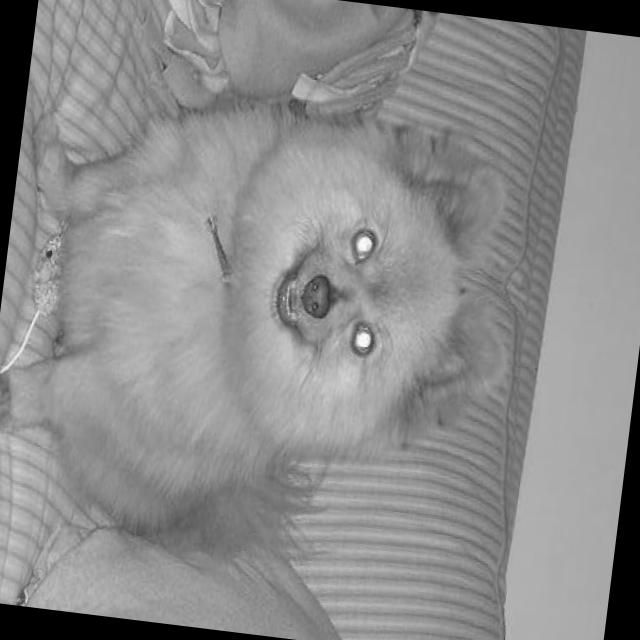sitting: (0, 68, 542, 609)
